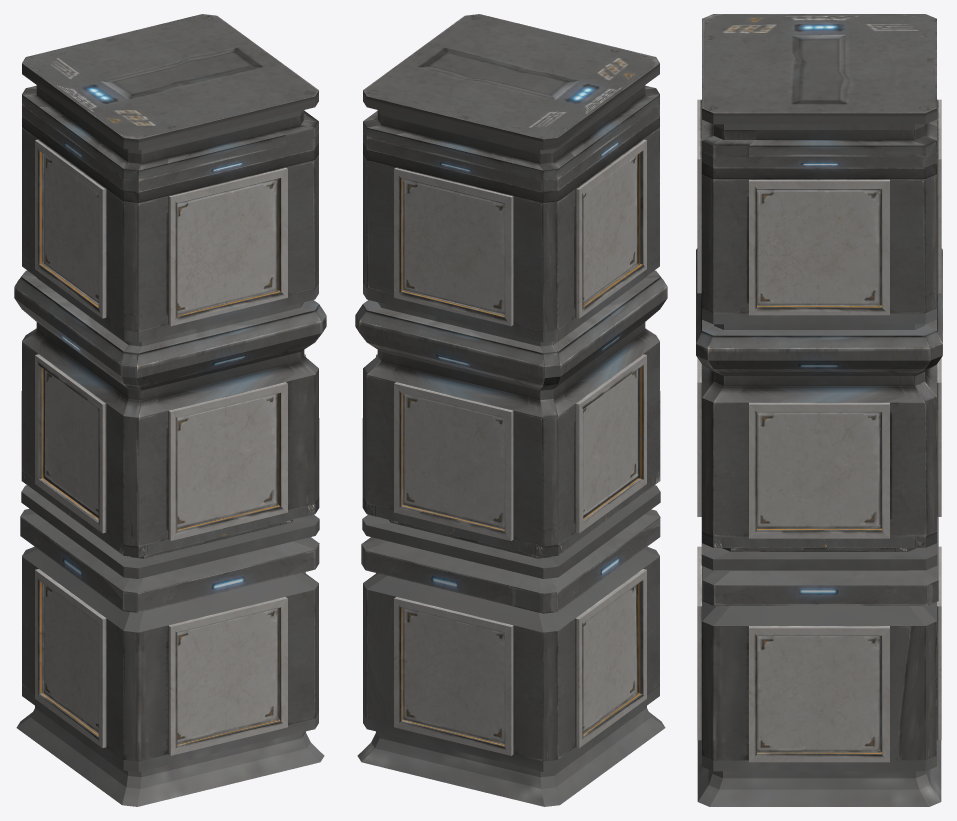
File: Coluna_3Altura.fbx
3 views of the same model, side by side, from view 1: azimuth 30°, elevation 25°; view 2: azimuth 150°, elevation 25°; view 3: azimuth 270°, elevation 25° (orthographic). The views are drawn at different scales.
Visible parts, largest first — view 1: Coluna.005; view 2: Coluna.005; view 3: Coluna.005.
Part boxes in pixels (x1,y1,x2,y2): Coluna.005: [14, 14, 326, 806]; Coluna.005: [355, 14, 667, 806]; Coluna.005: [696, 14, 942, 806].
Bounding box in the file's own units: 1 × 3.1 × 1.
Materials: 1 (1 with a texture image).
